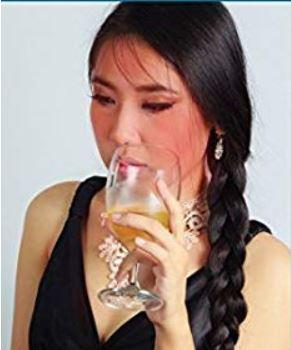Drunk: (95, 43, 193, 191)
